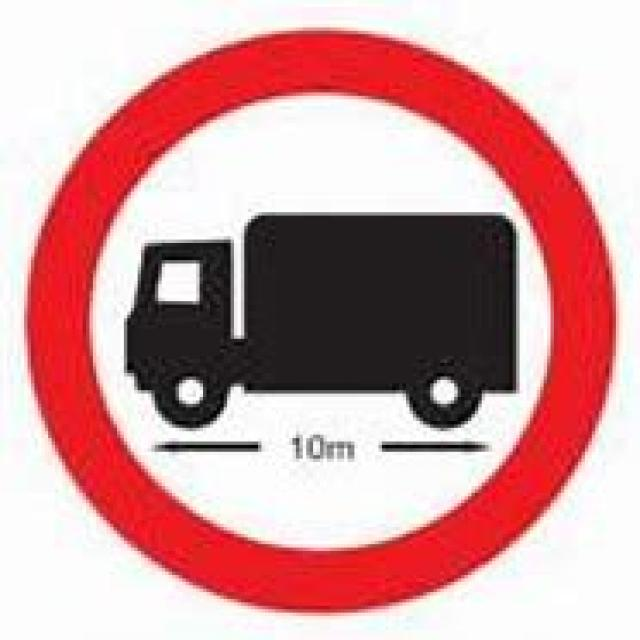LENGTH_LIMIT: (27, 28, 619, 616)
